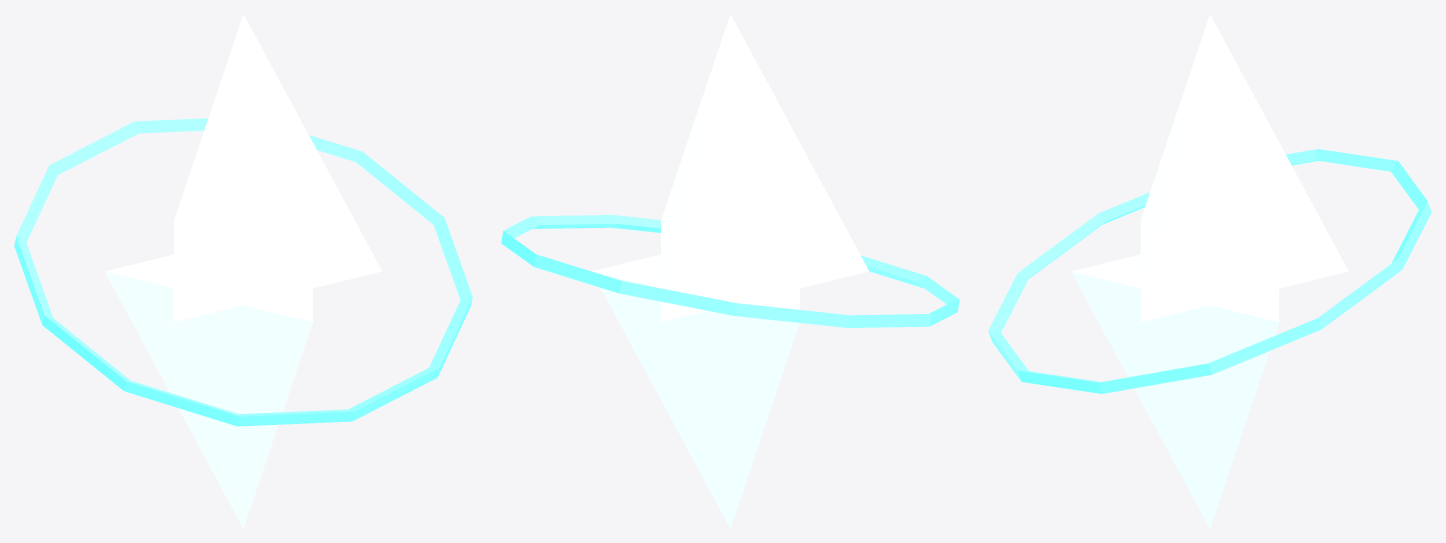
The model's file is dc_prism.glb.
3 renders of one model, left to right at view 1: azimuth 30°, elevation 25°; view 2: azimuth 150°, elevation 25°; view 3: azimuth 270°, elevation 25°, orthographic.
Visible parts, largest first — view 1: part.dc_prism; view 2: part.dc_prism; view 3: part.dc_prism.
Part boxes in pixels (x1,y1,x2,y2): part.dc_prism: (14, 14, 472, 528); part.dc_prism: (501, 14, 959, 528); part.dc_prism: (988, 14, 1431, 528).
Size of the model in its own units: 0.732 by 0.9 by 0.7026.
